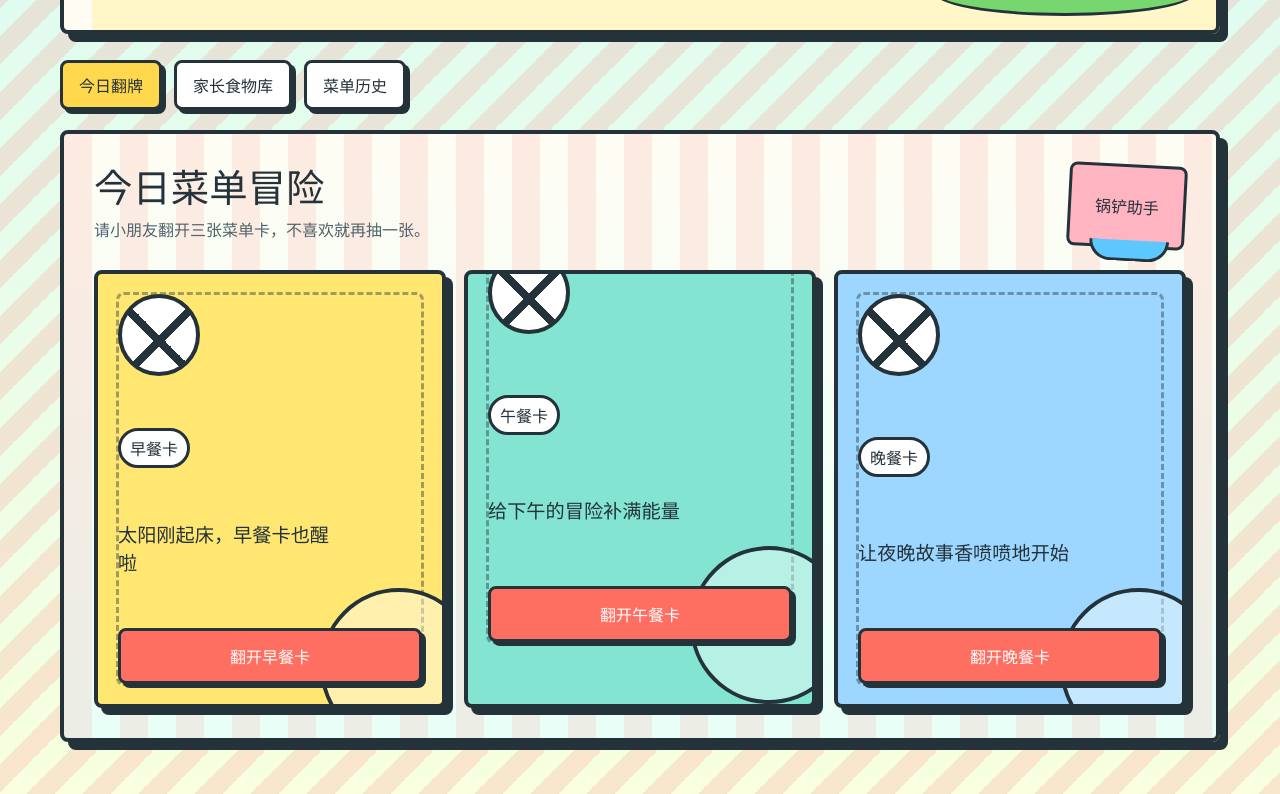
Test case: App › refreshes a flipped meal card without revealing the other cards
(page scrolled)
Click the button "翻开午餐卡" at (640, 614), box [488, 586, 792, 642]
(page scrolled)
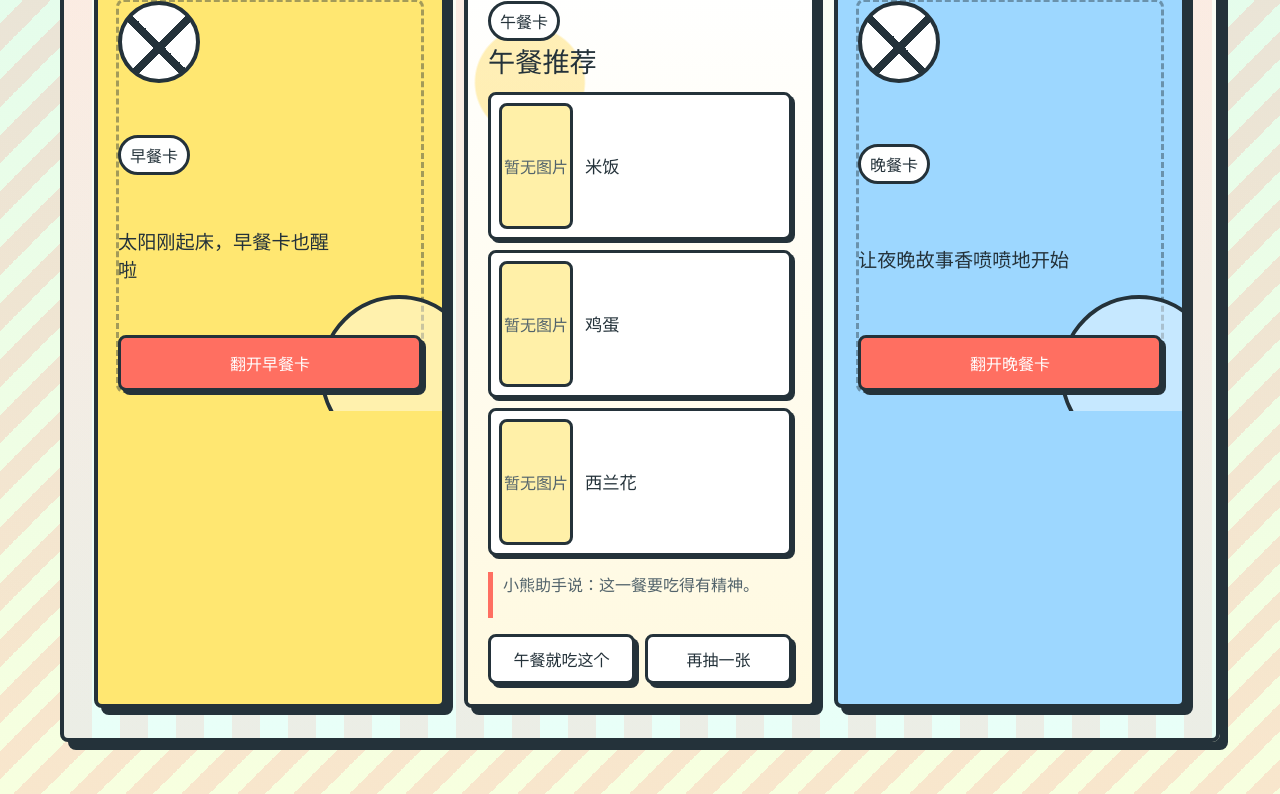
Click the button with aria-label "再抽一张午餐卡" at (718, 659), box [645, 634, 792, 684]
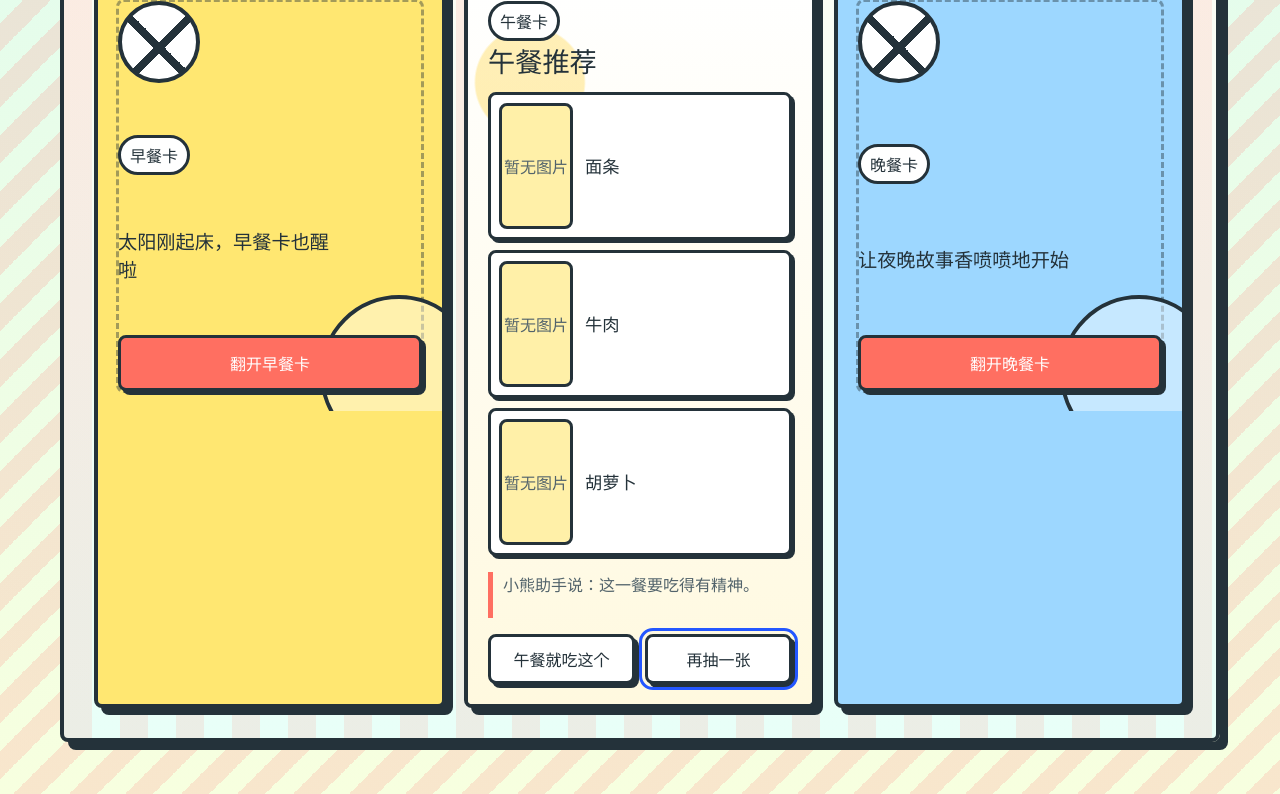
Expected: the button "翻开晚餐卡" is shown, [858, 334, 1162, 390]
Expected: the text "米饭" is gone
